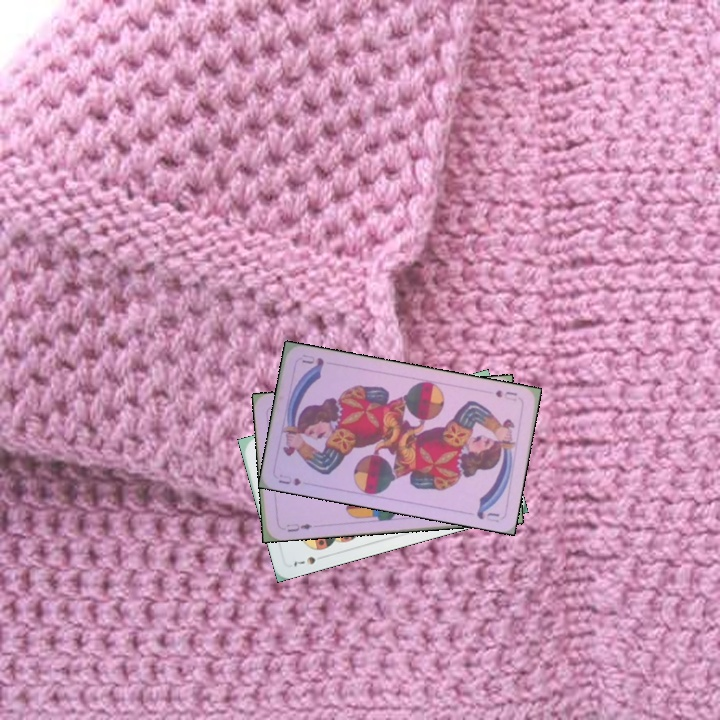EU: (283, 520, 314, 534)
S7: (288, 552, 318, 569)
SU: (274, 470, 304, 488), (491, 386, 520, 404)
